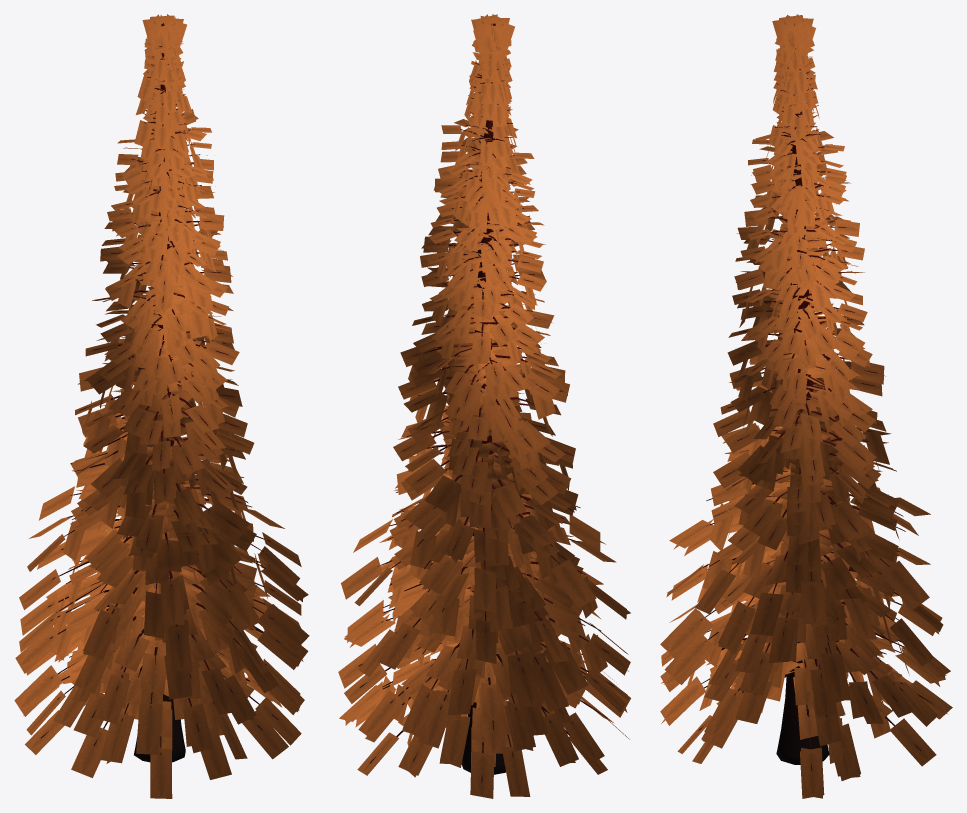
File: baldcypress_v02_LOD1.glb
The picture shows the model from 3 angles, left to right: view 1: azimuth 30°, elevation 25°; view 2: azimuth 150°, elevation 25°; view 3: azimuth 270°, elevation 25°; orthographic projection.
Visible parts, largest first — view 1: baldcypress_v02_LOD1; view 2: baldcypress_v02_LOD1; view 3: baldcypress_v02_LOD1.
Part boxes in pixels (x1,y1,x2,y2): baldcypress_v02_LOD1: (14,14,309,798); baldcypress_v02_LOD1: (338,14,630,798); baldcypress_v02_LOD1: (660,14,952,798).
Bounding box in the file's own units: 9.31 × 26.2 × 9.44.
Materials: 2 (2 with a texture image).
